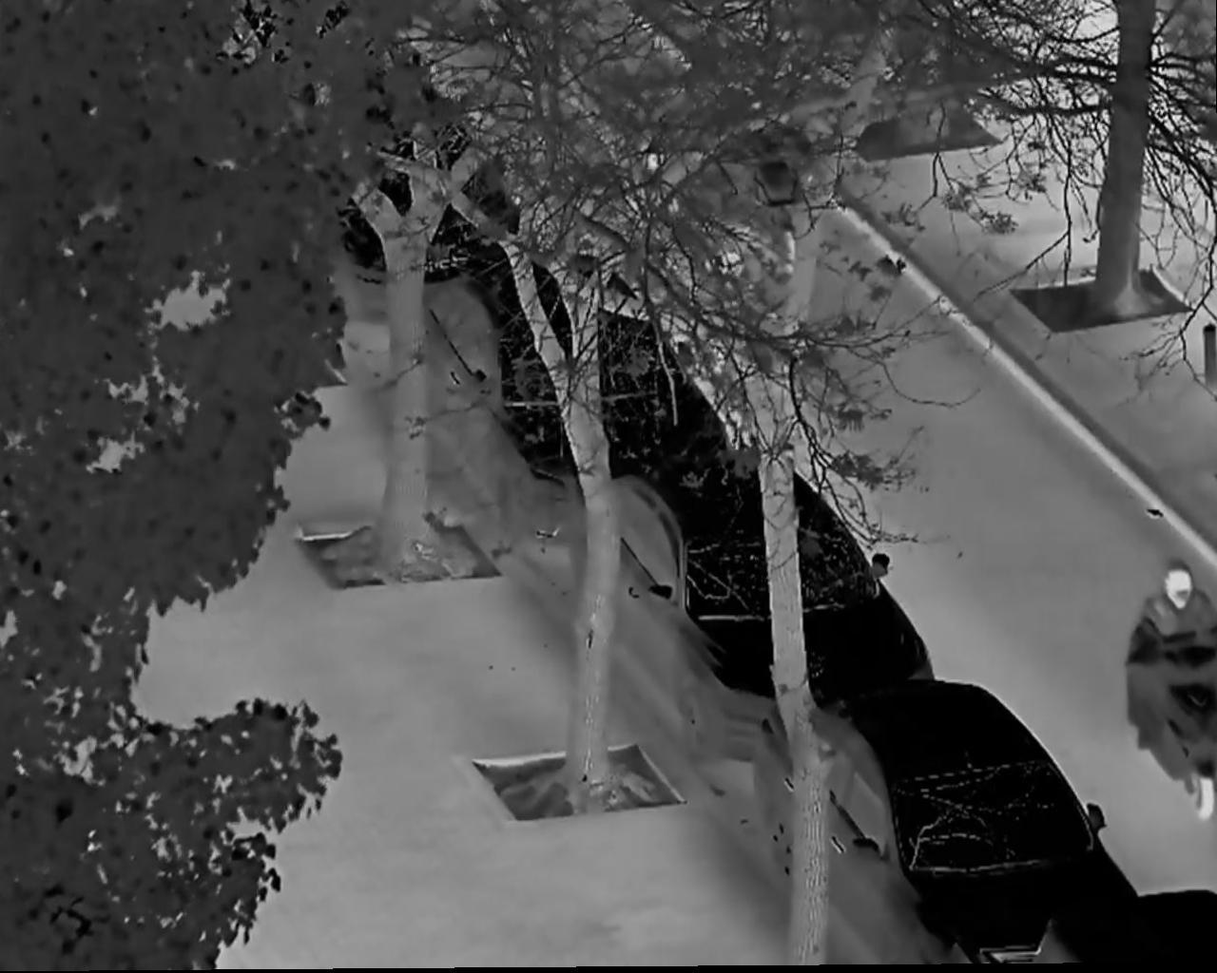person: (1132, 561, 1217, 710)
